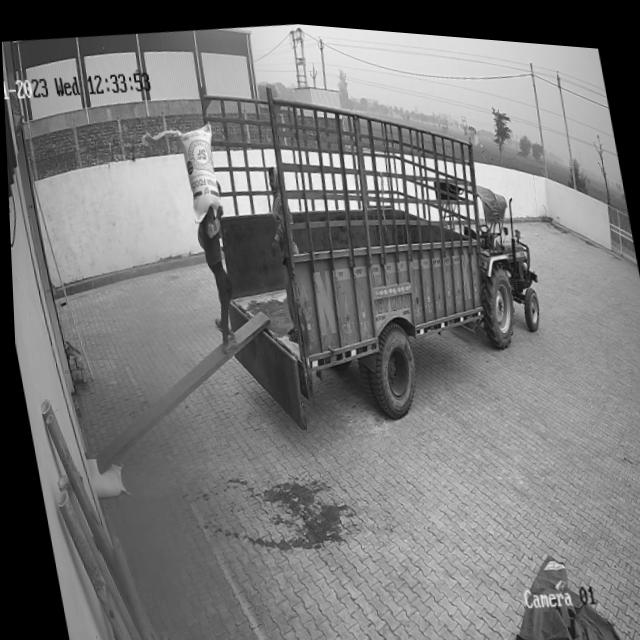sack: (176, 117, 226, 220), (81, 451, 123, 500)
